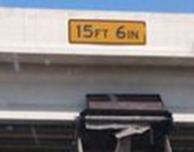1: (73, 22, 82, 39)
5: (82, 22, 94, 41)
6: (112, 21, 127, 42)
overheadsign: (66, 17, 147, 47)
